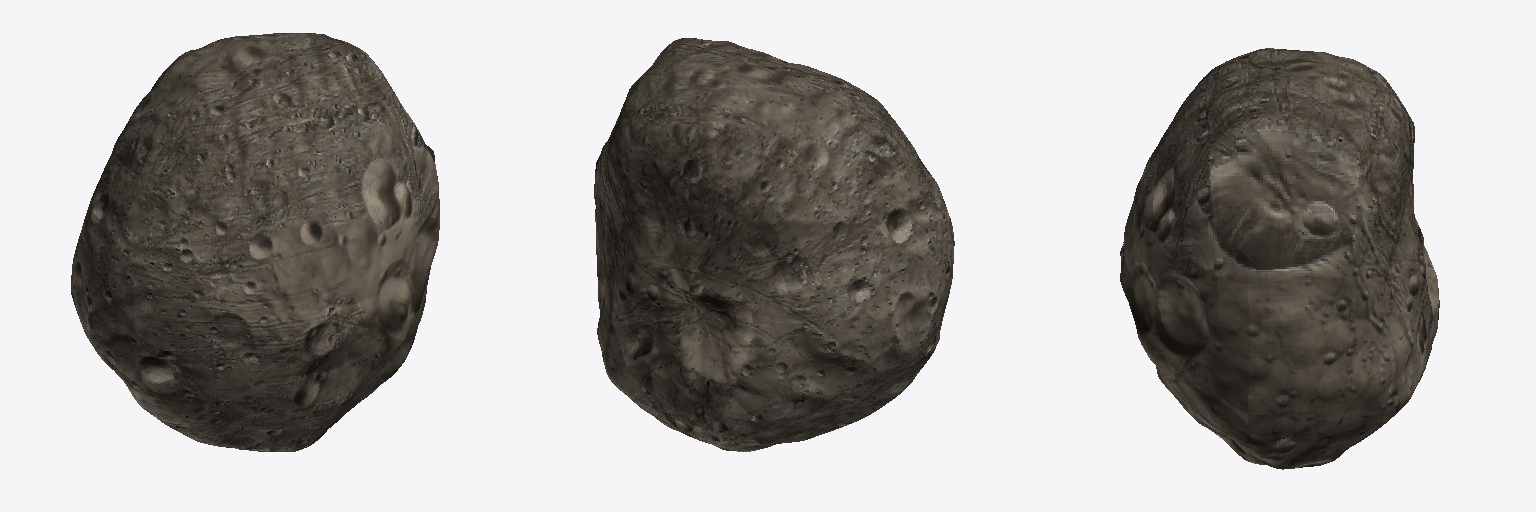
3 renders of one model, left to right at view 1: azimuth 30°, elevation 25°; view 2: azimuth 150°, elevation 25°; view 3: azimuth 270°, elevation 25°, orthographic.
Size of the model in its own units: 23.37 by 26.04 by 19.4.
Materials: 1 (1 with a texture image).